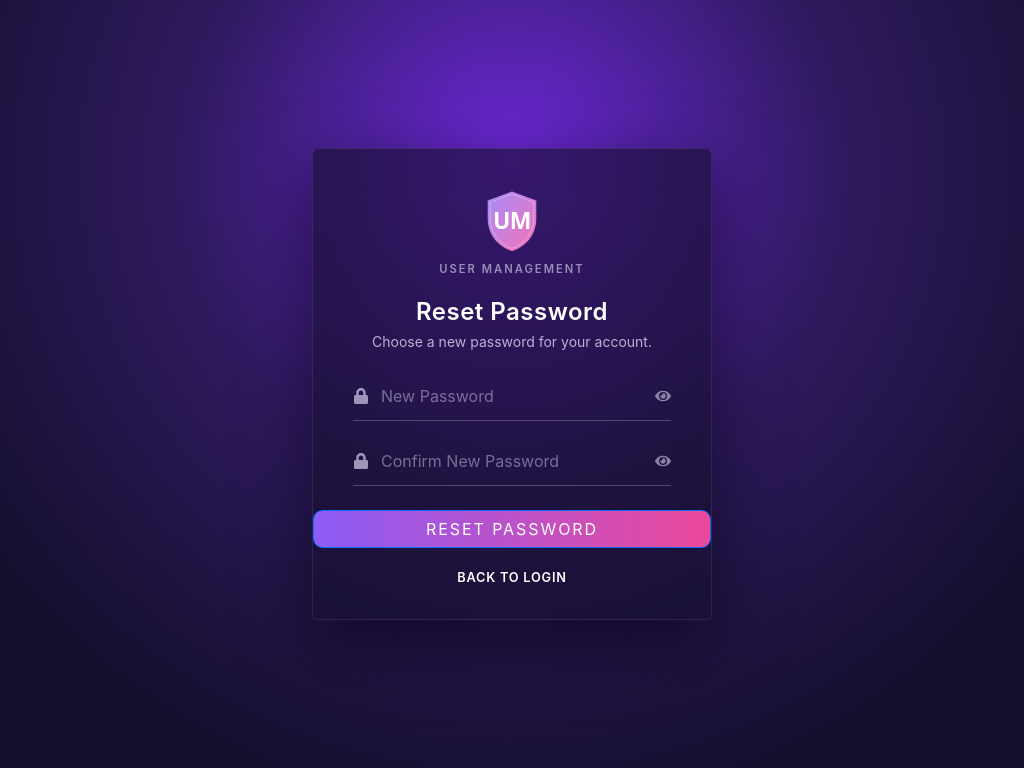
Test: ResetPassword › shows the server error for an invalid or expired link
The image size is (1024, 768).
In the password field labelled "New Password": (512, 396) [381,380,643,412], type "NewPass123!"
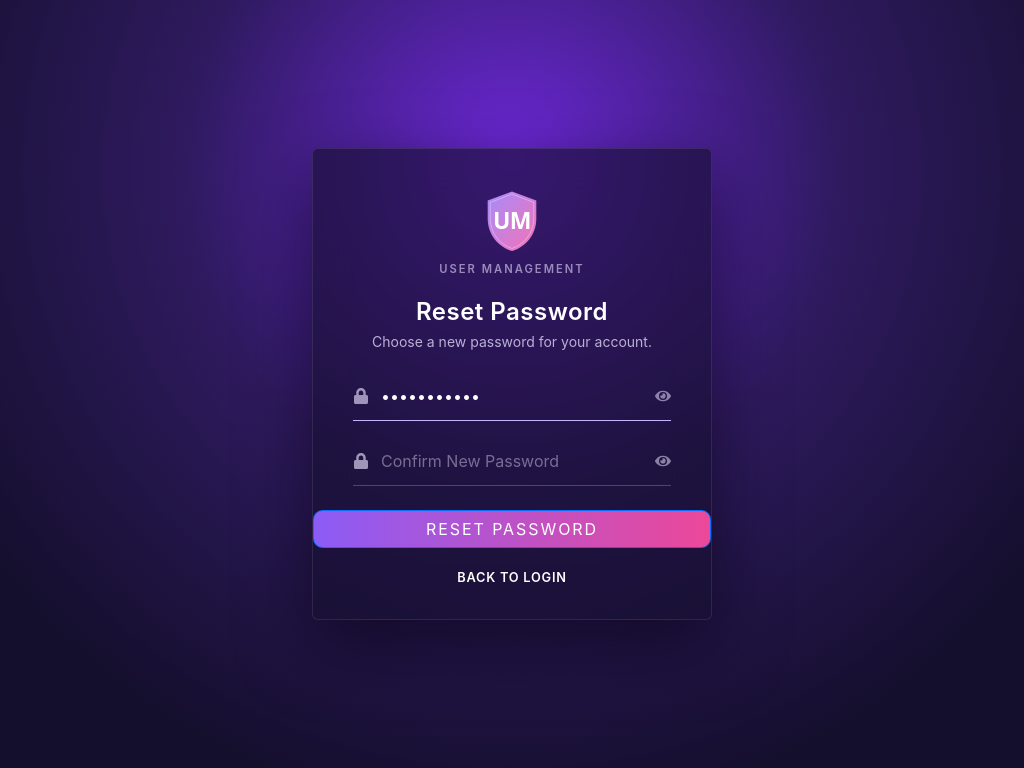
In the password field labelled "Confirm New Password": (512, 461) [381,445,643,477], type "NewPass123!"
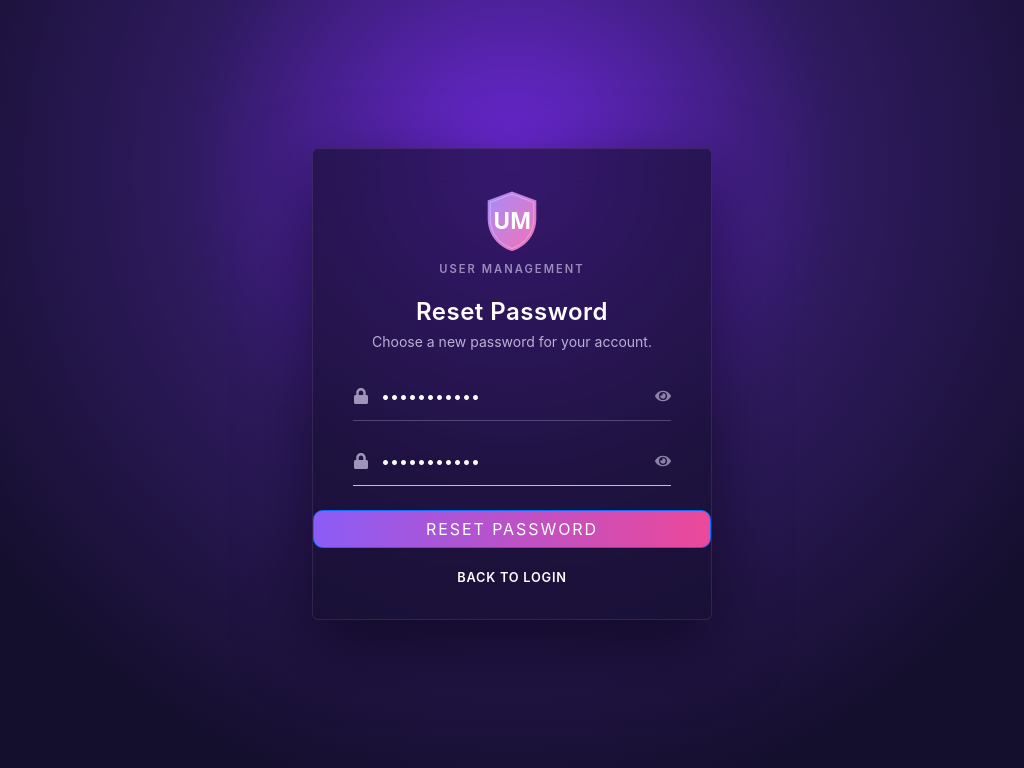
Click the button "Reset Password": (512, 529) [313,510,711,548]
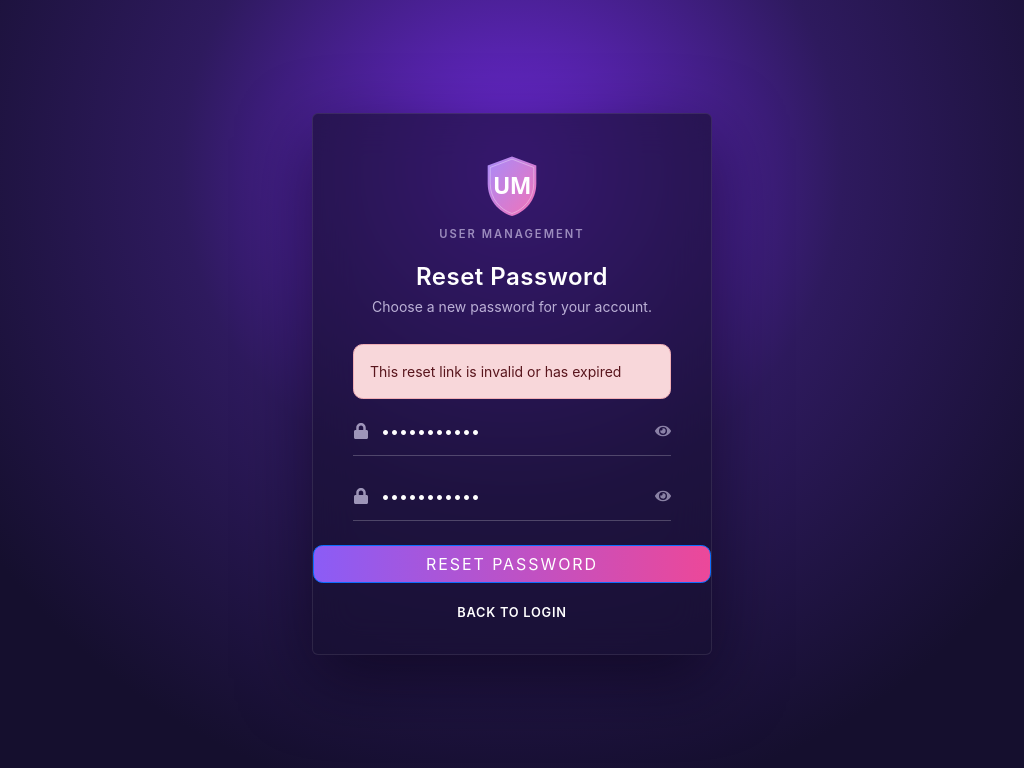
Now the text "This reset link is invalid or has expired" is shown, box [353,344,671,399]
